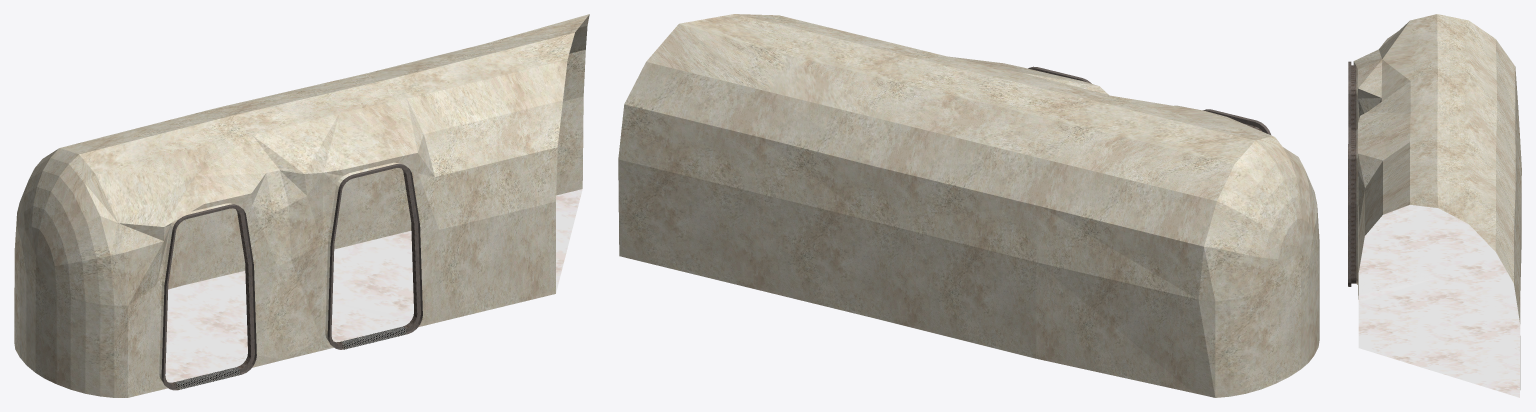
The model's file is ply_tato_assoc_hall_civ_s02_r16_hall3_mesh_r16.fbx.
The picture shows the model from 3 angles, left to right: view 1: azimuth 30°, elevation 25°; view 2: azimuth 150°, elevation 25°; view 3: azimuth 270°, elevation 25°; orthographic projection. The views are drawn at different scales.
Visible parts, largest first — view 1: mesh_node; view 2: mesh_node; view 3: mesh_node.
Part boxes in pixels (x1,y1,x2,y2): mesh_node: [14, 14, 589, 397]; mesh_node: [618, 14, 1319, 397]; mesh_node: [1348, 14, 1521, 397].
Size of the model in its own units: 11.68 by 3.89 by 3.65.
